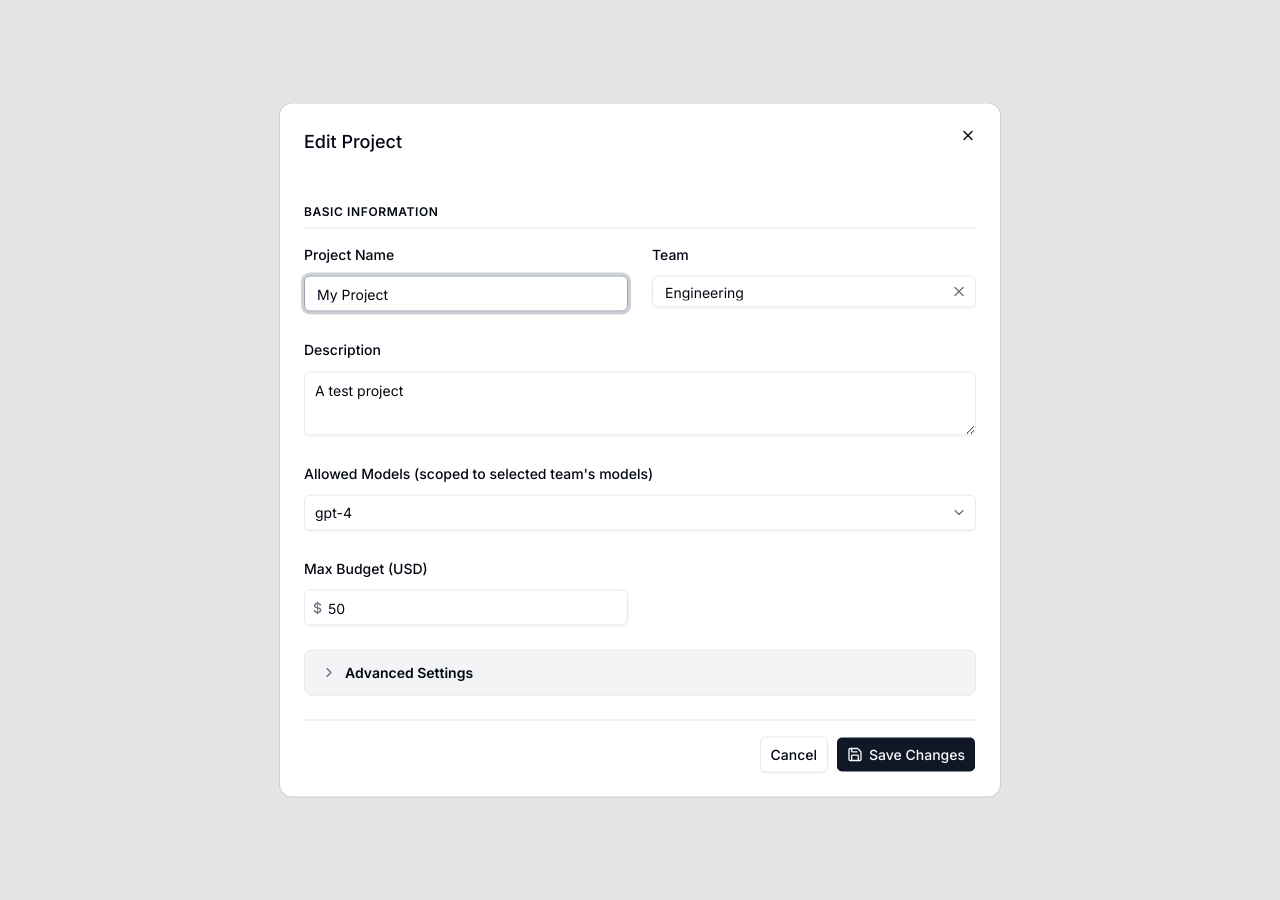
Test: EditProjectModal submit payload › blocks the save when the project name is cleared
Clear the field labelled "Project Name" at (466,294), box [304,276,628,312]
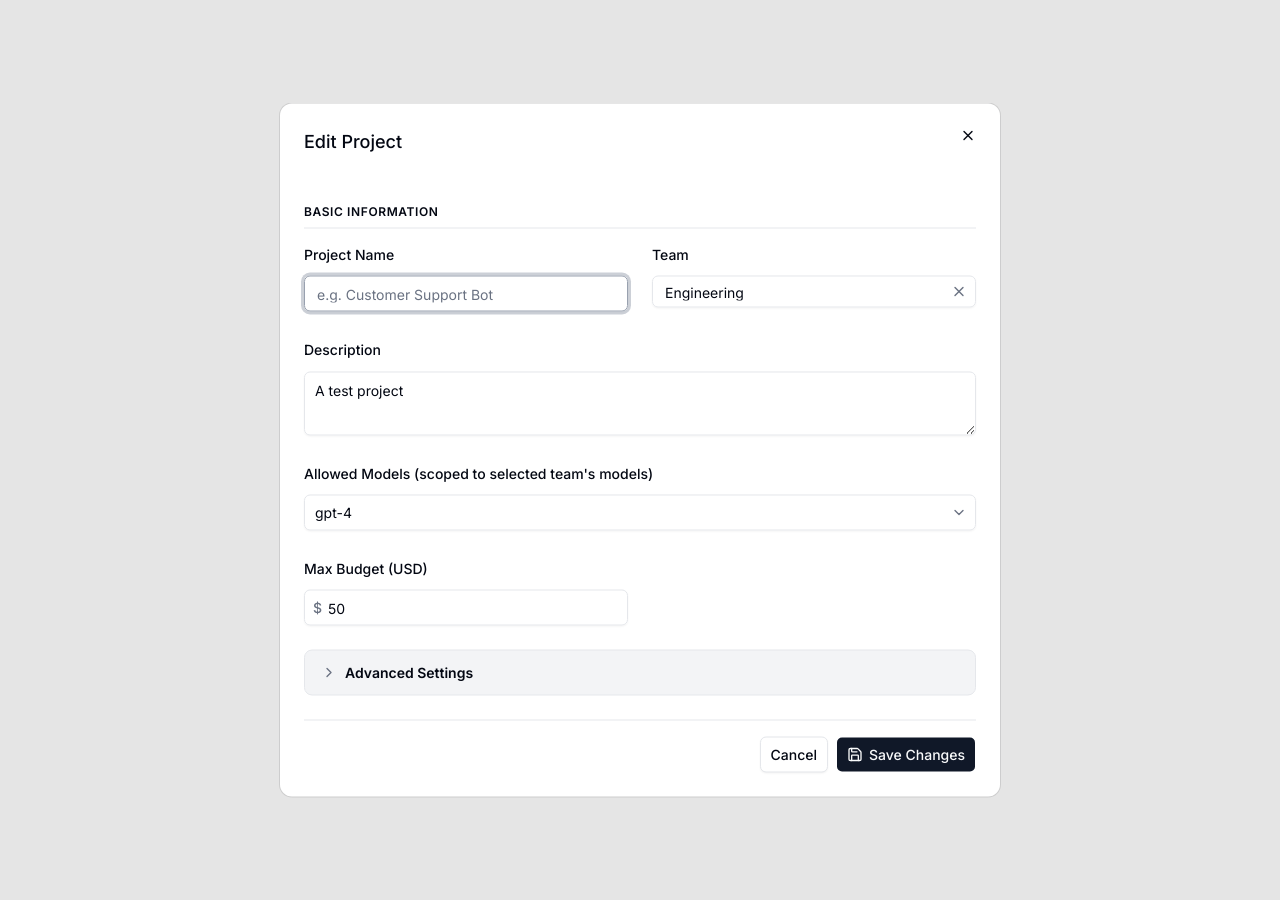
Click the button "Save Changes" at (906,754), box [836,736,976,772]
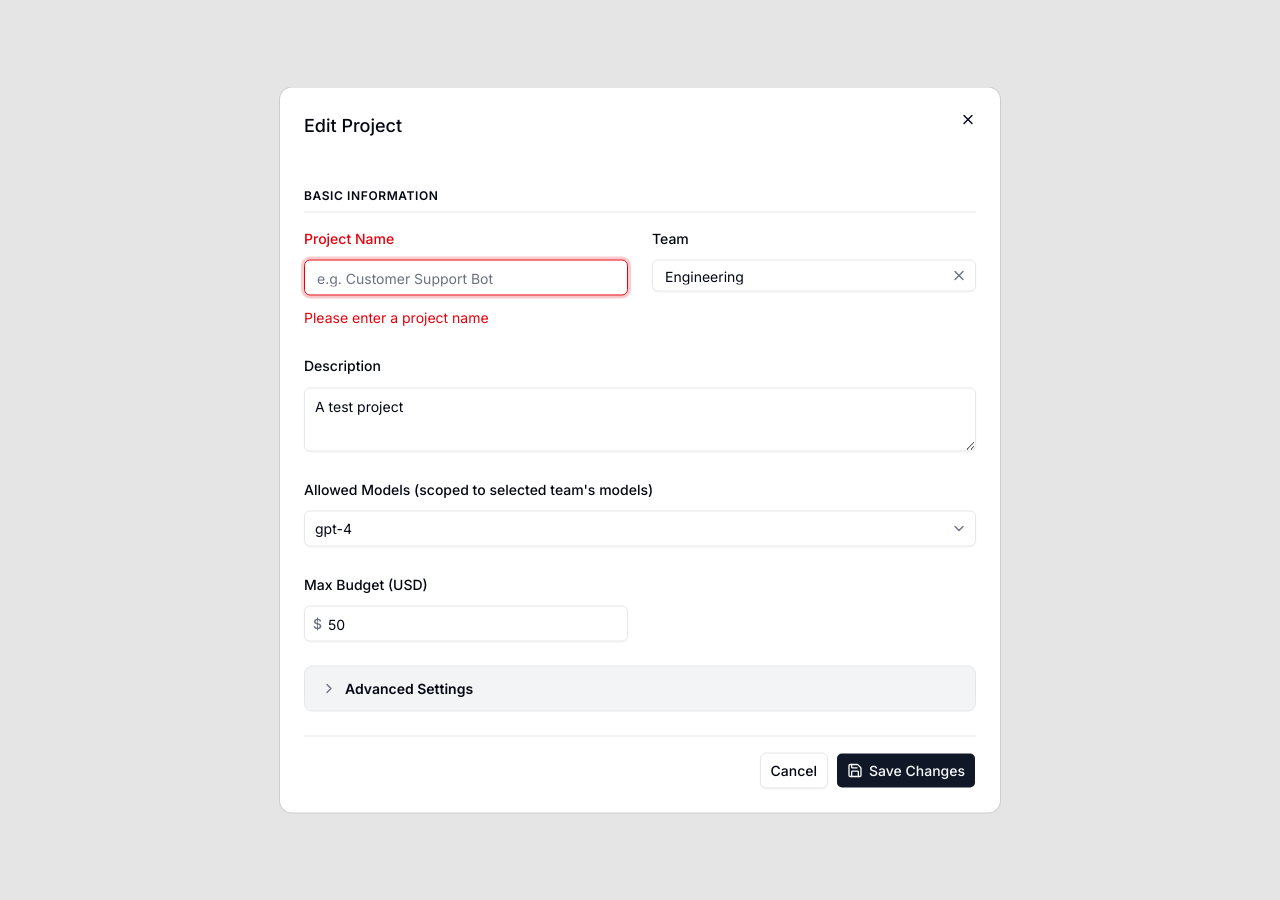
Expected: the text "Please enter a project name" is shown, [304,309,489,326]
